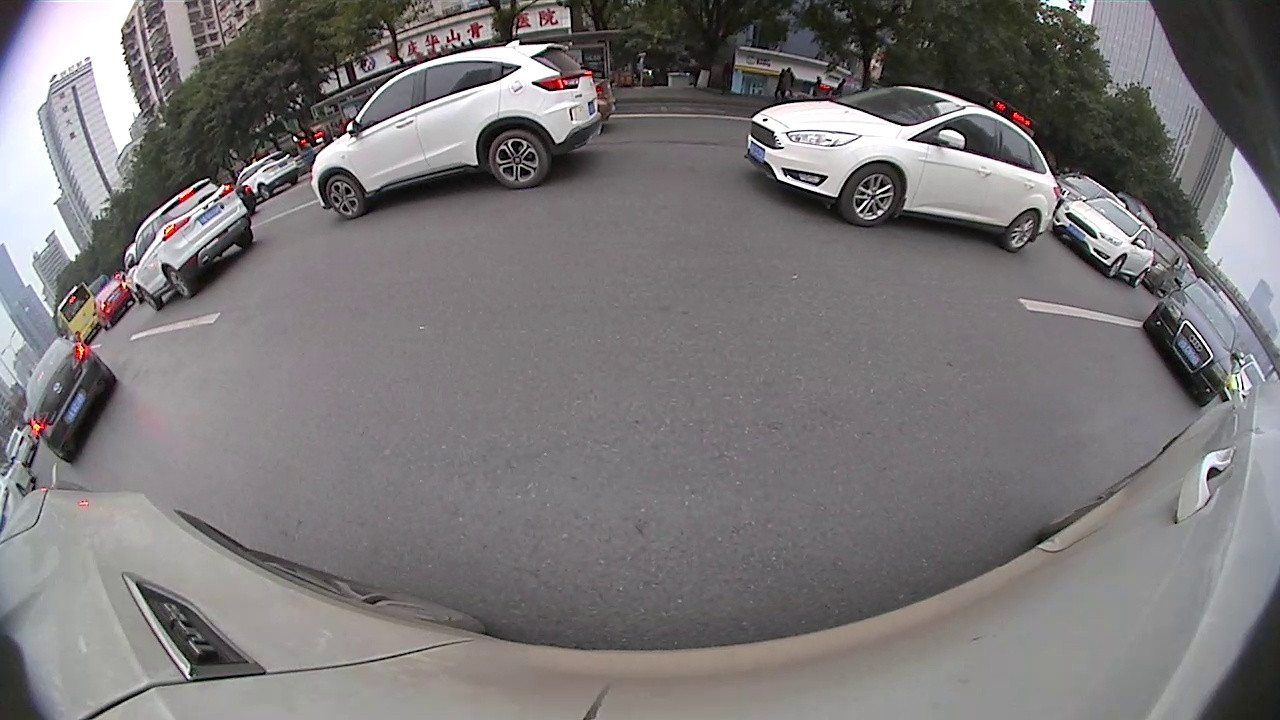car: (310, 38, 604, 220), (745, 86, 1058, 253), (127, 175, 256, 308), (1143, 279, 1237, 407), (23, 337, 117, 463), (1055, 194, 1153, 288), (233, 150, 300, 206), (1144, 228, 1188, 295), (89, 277, 134, 330)
front: (838, 160, 905, 229), (324, 174, 367, 220), (136, 285, 165, 311), (1105, 251, 1127, 282)
rear: (488, 129, 548, 189), (1001, 207, 1038, 252), (163, 264, 198, 299), (257, 182, 275, 201)
